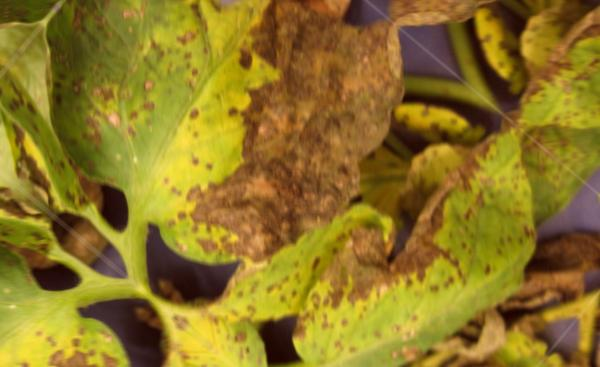Tomato Septoria leaf spot: (0, 0, 451, 317), (258, 103, 587, 367)
